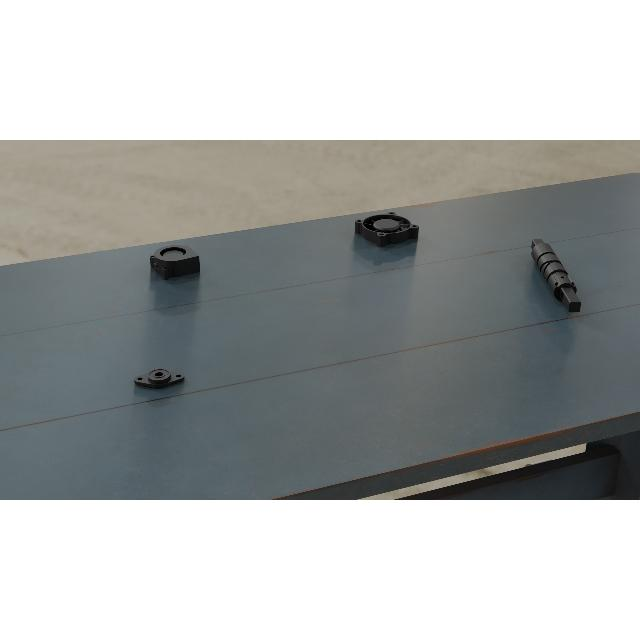Pieza1: (526, 235, 588, 318)
Pieza2: (134, 366, 184, 390)
Pieza3: (147, 242, 200, 282)
Pieza4: (352, 211, 422, 249)
